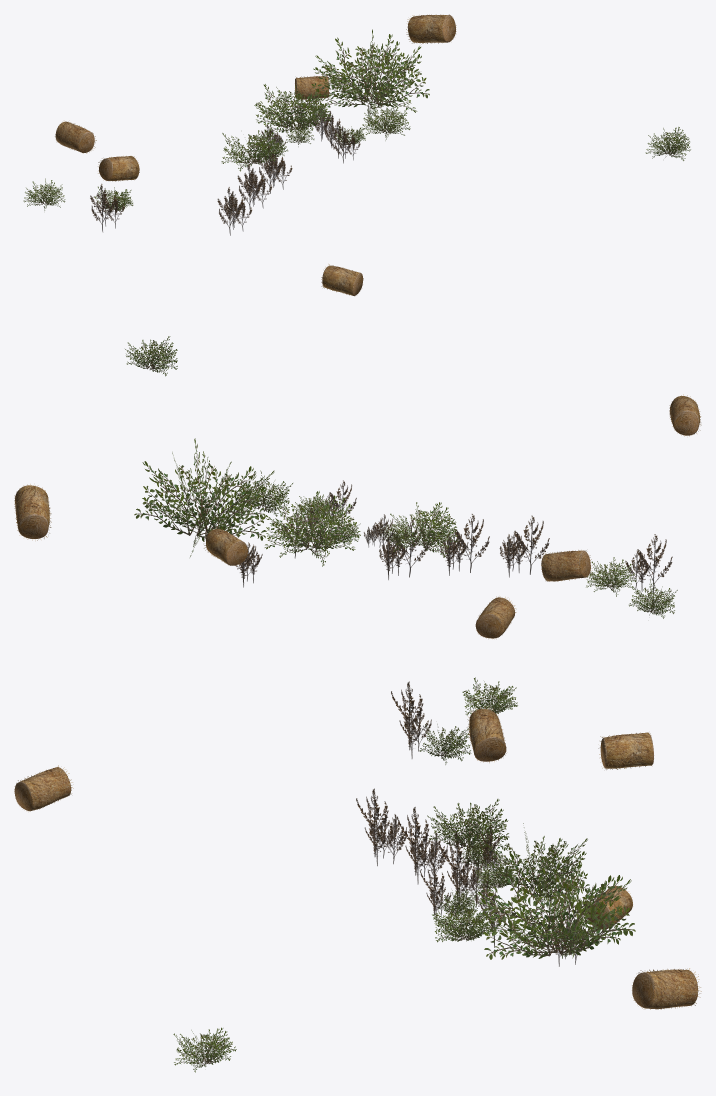
File: Bushes.glb
The picture shows the model from 3 angles, top to bottom: view 1: azimuth 30°, elevation 25°; view 2: azimuth 150°, elevation 25°; view 3: azimuth 270°, elevation 25°; orthographic projection. The views are drawn at different scales.
Parts seen in each view (by area): view 1: Cube.193_M_Hay_Atlas_01_0.007; view 2: Cube.193_M_Hay_Atlas_01_0.007; view 3: Cube.193_M_Hay_Atlas_01_0.007.
Boxes of the visible parts, x1,y1,x2,y2 form: Cube.193_M_Hay_Atlas_01_0.007: (23, 14, 690, 296); Cube.193_M_Hay_Atlas_01_0.007: (14, 336, 701, 638); Cube.193_M_Hay_Atlas_01_0.007: (14, 677, 701, 1072).
Bounding box in the file's own units: 31.73 × 6.06 × 23.95.
3 materials, 3 textured.
